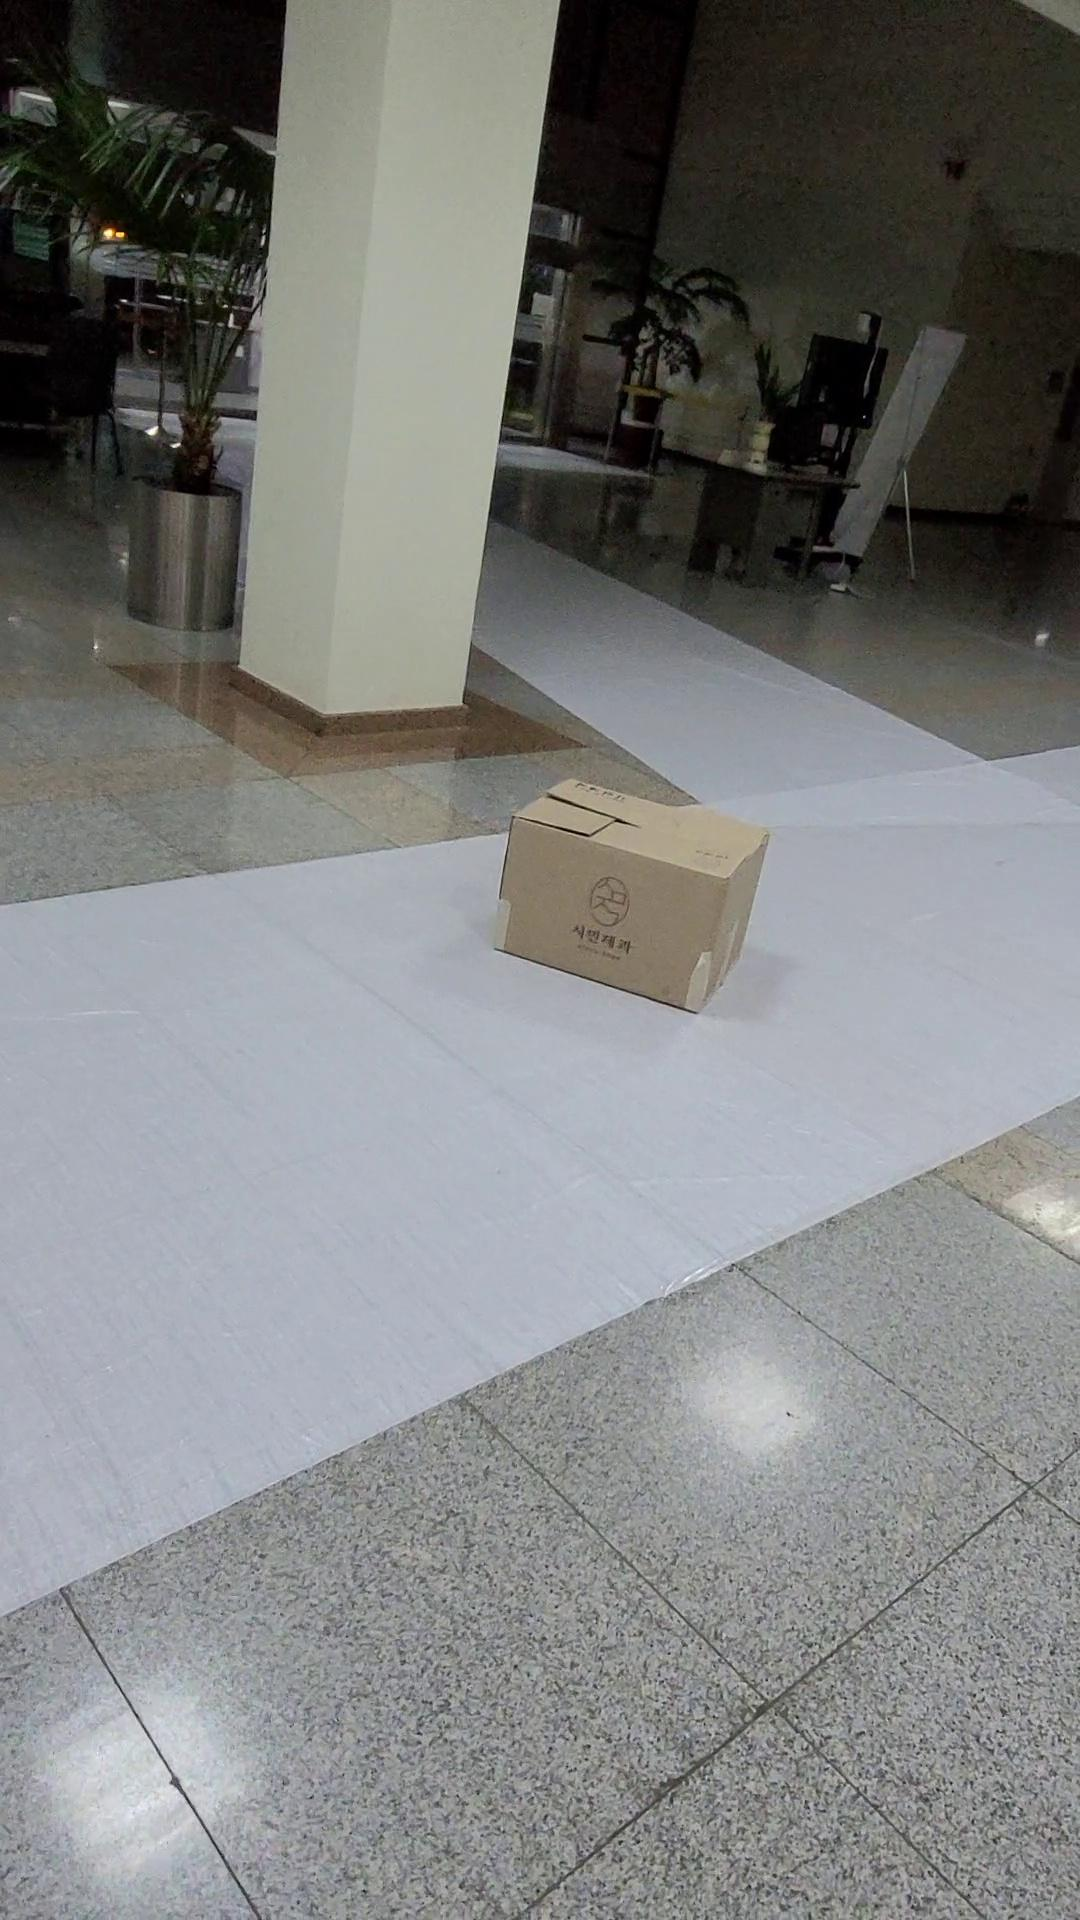Box: (451, 764, 804, 1058)
